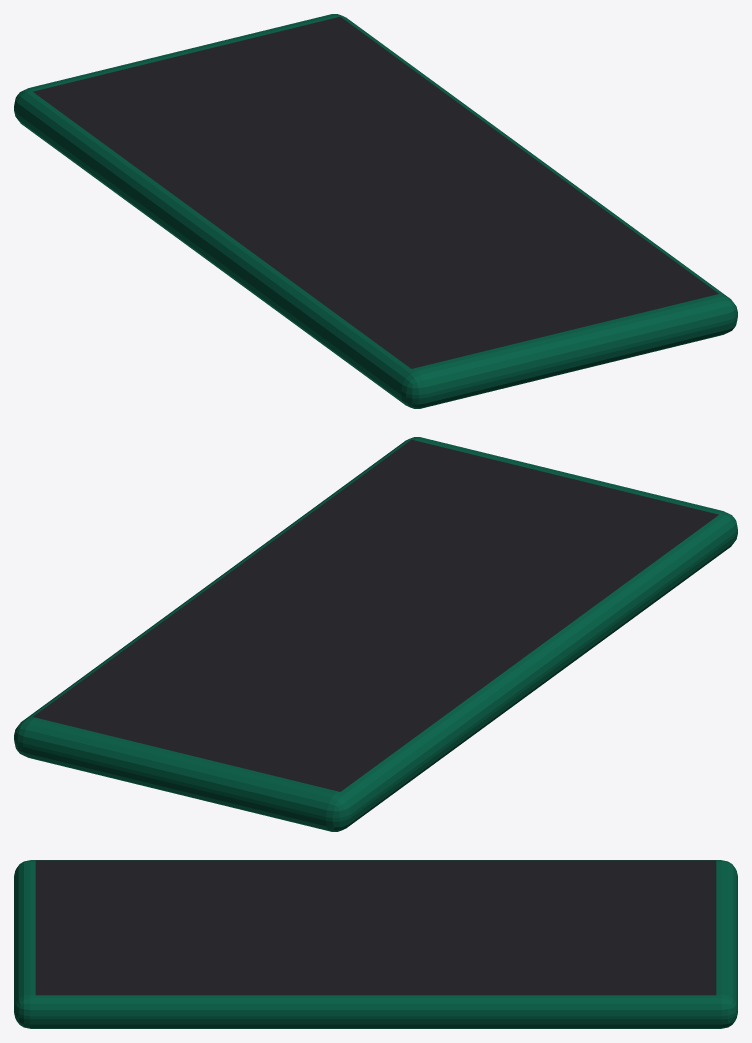
The model's file is Phone_639.glb.
3 views of the same model, one above another, from view 1: azimuth 30°, elevation 25°; view 2: azimuth 150°, elevation 25°; view 3: azimuth 270°, elevation 25° (orthographic). The views are drawn at different scales.
Visible parts, largest first — view 1: Phone_Screen, Phone_Body; view 2: Phone_Screen, Phone_Body; view 3: Phone_Screen, Phone_Body.
Boxes of the visible parts, x1,y1,x2,y2 form: Phone_Screen: (33, 16, 718, 368); Phone_Body: (14, 14, 737, 408); Phone_Screen: (33, 439, 718, 791); Phone_Body: (14, 437, 737, 831); Phone_Screen: (35, 860, 716, 995); Phone_Body: (14, 860, 737, 1028).
Bounding box in the file's own units: 0.0797 × 0.0084 × 0.1663.
